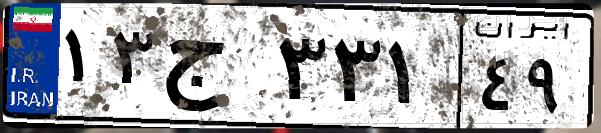1: (385, 28, 445, 110), (57, 26, 110, 100)
3: (270, 28, 330, 110), (330, 28, 385, 110), (110, 28, 158, 98)
4: (475, 38, 525, 113)
9: (525, 38, 570, 115)
ج: (158, 20, 270, 120)
